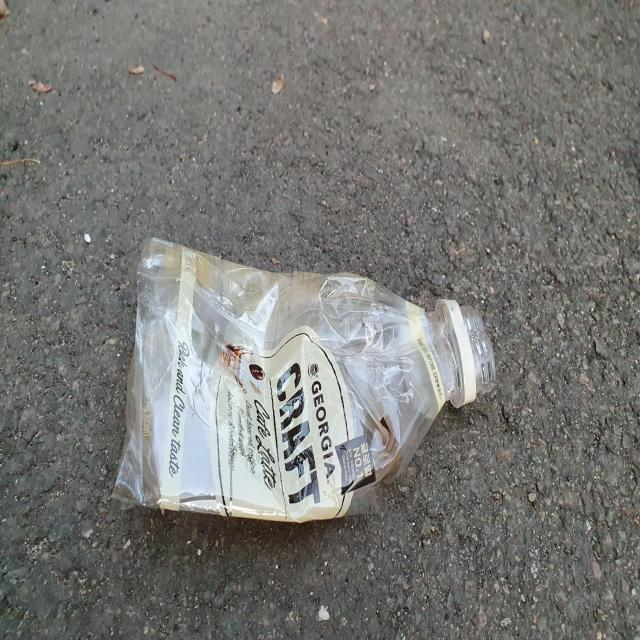plastic: (113, 238, 496, 522)
